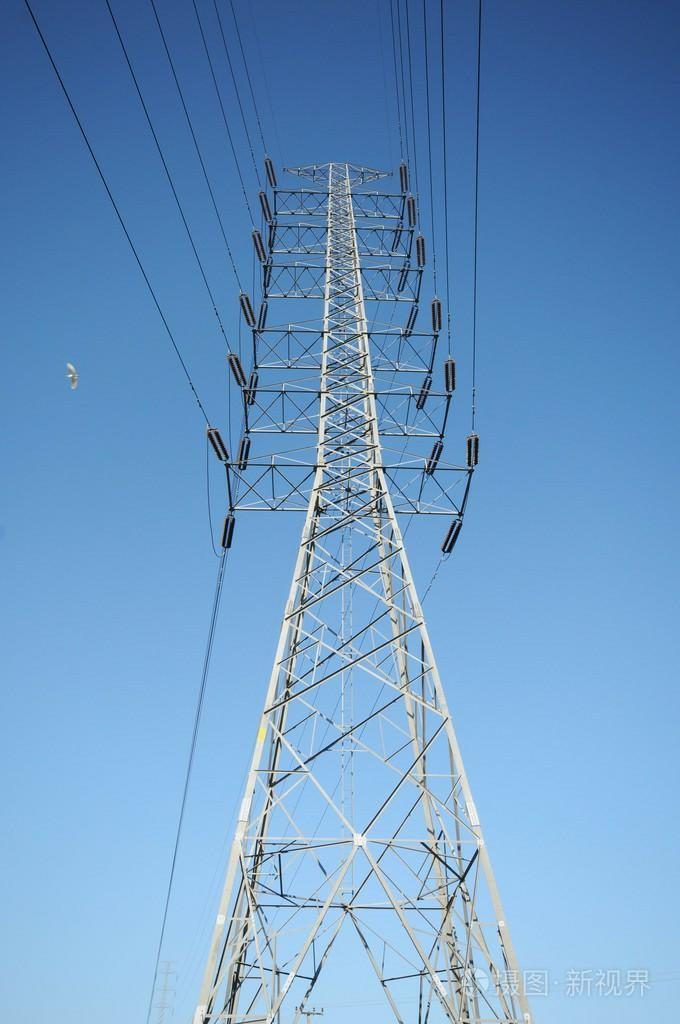power_tower: (159, 120, 553, 1020)
